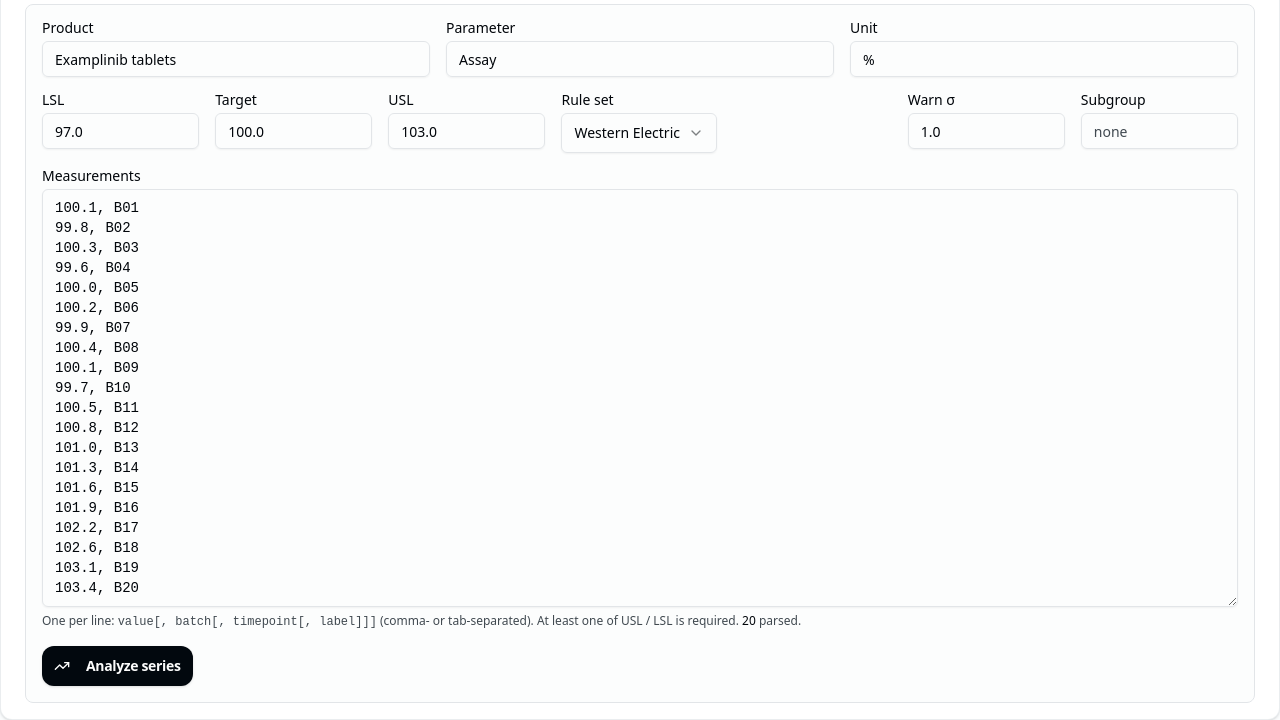
SPCProcessCapabilityPanel › renders null capability indices as em-dashes and shows the zero-variation warning
(page scrolled)
Click the button "Analyze series": (117, 666) [42,646,192,686]
(page scrolled)
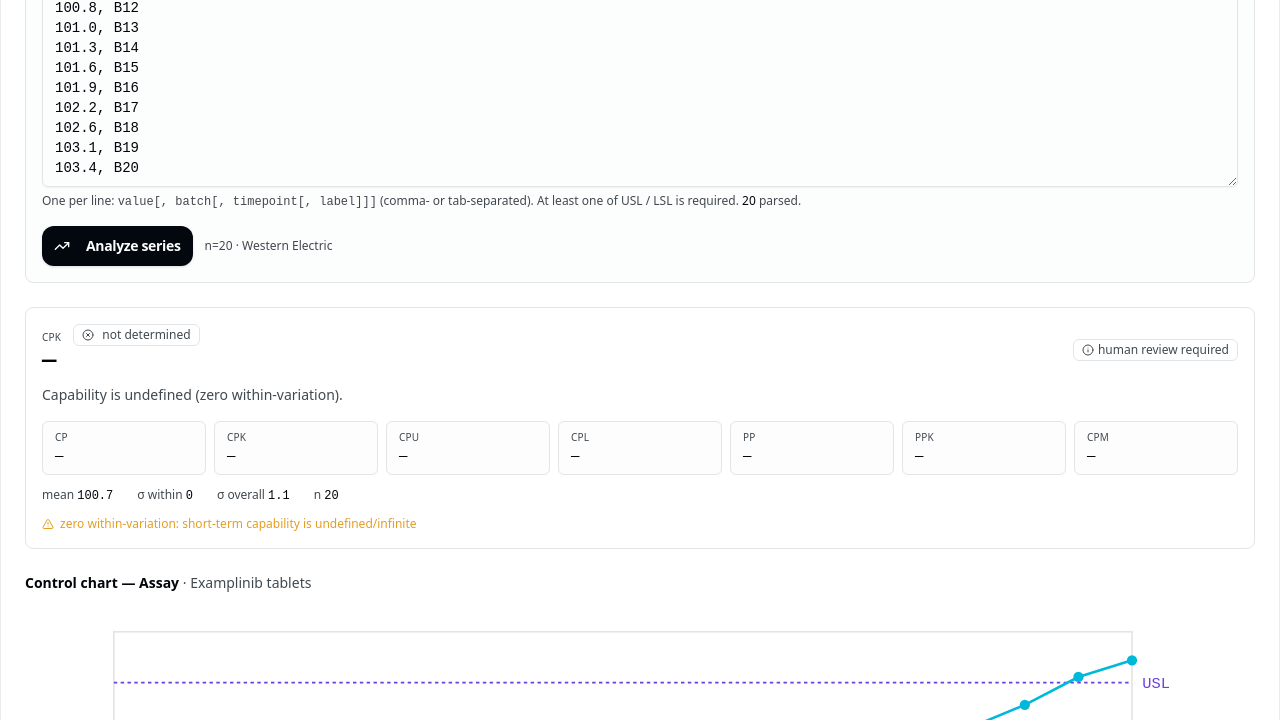
Expected: the text "not determined" is shown, [73,324,200,346]
Expected: the text "short-term capability is undefined/infinite" is shown, [60,515,417,532]
Expected: the text "—" below "not determined" is shown, [42,346,56,374]
